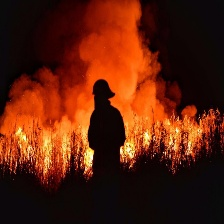fire: (9, 123, 93, 175), (119, 116, 205, 166)
smoke: (1, 6, 173, 110)
